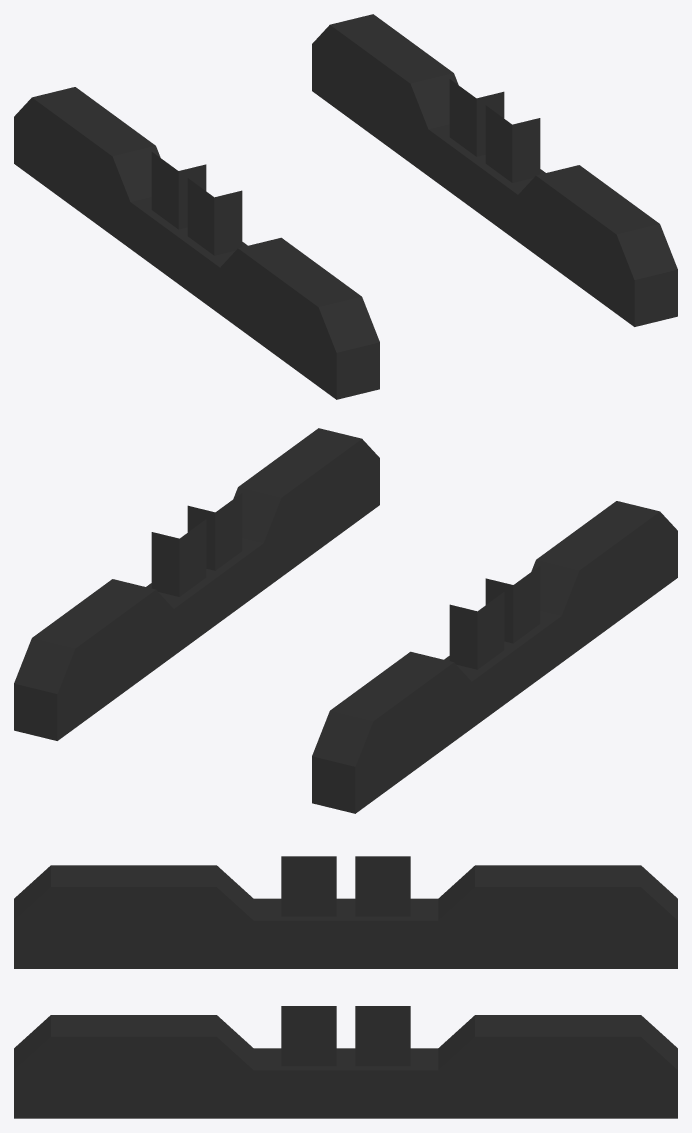
Rendered from train-passenger-wagon-wheel-frame_F.glb.
The picture shows the model from 3 angles, top to bottom: view 1: azimuth 30°, elevation 25°; view 2: azimuth 150°, elevation 25°; view 3: azimuth 270°, elevation 25°; orthographic projection. The views are drawn at different scales.
Visible parts, largest first — view 1: train-passenger-wagon-wheel-frame_F; view 2: train-passenger-wagon-wheel-frame_F; view 3: train-passenger-wagon-wheel-frame_F.
Boxes of the visible parts, left/top/right/bottom form: train-passenger-wagon-wheel-frame_F: left=14, top=14, right=677, bottom=399; train-passenger-wagon-wheel-frame_F: left=14, top=428, right=677, bottom=813; train-passenger-wagon-wheel-frame_F: left=14, top=856, right=677, bottom=1118.
Bounding box in the file's own units: 2.2 × 0.65 × 3.6.
1 material, 1 textured.
